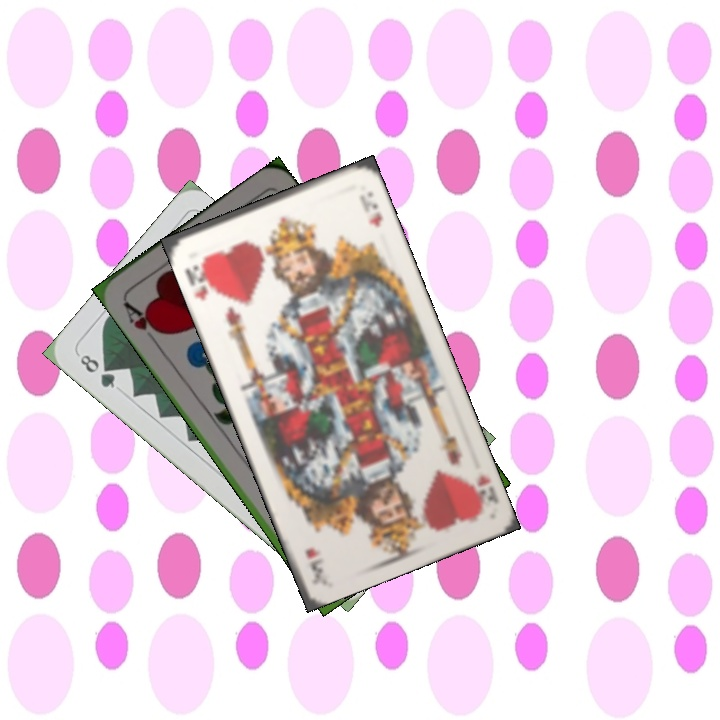G8: (75, 350, 118, 391)
HA: (119, 297, 165, 347)
HK: (181, 253, 219, 304), (462, 469, 501, 509)
